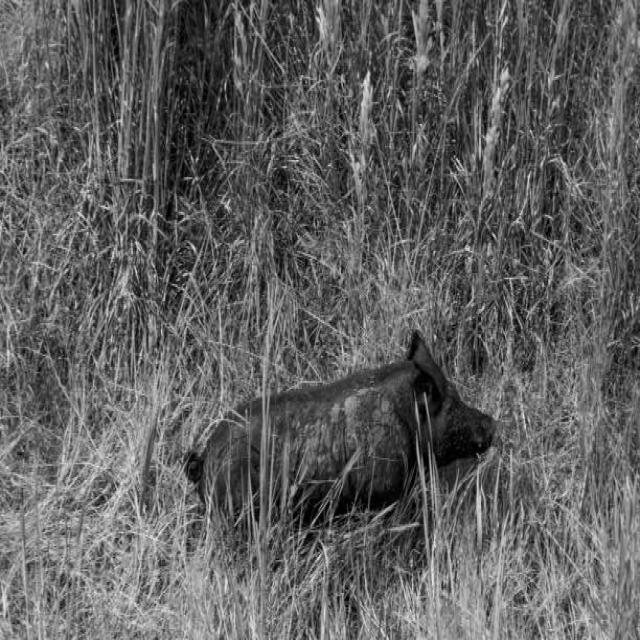boar: (185, 334, 503, 516)
